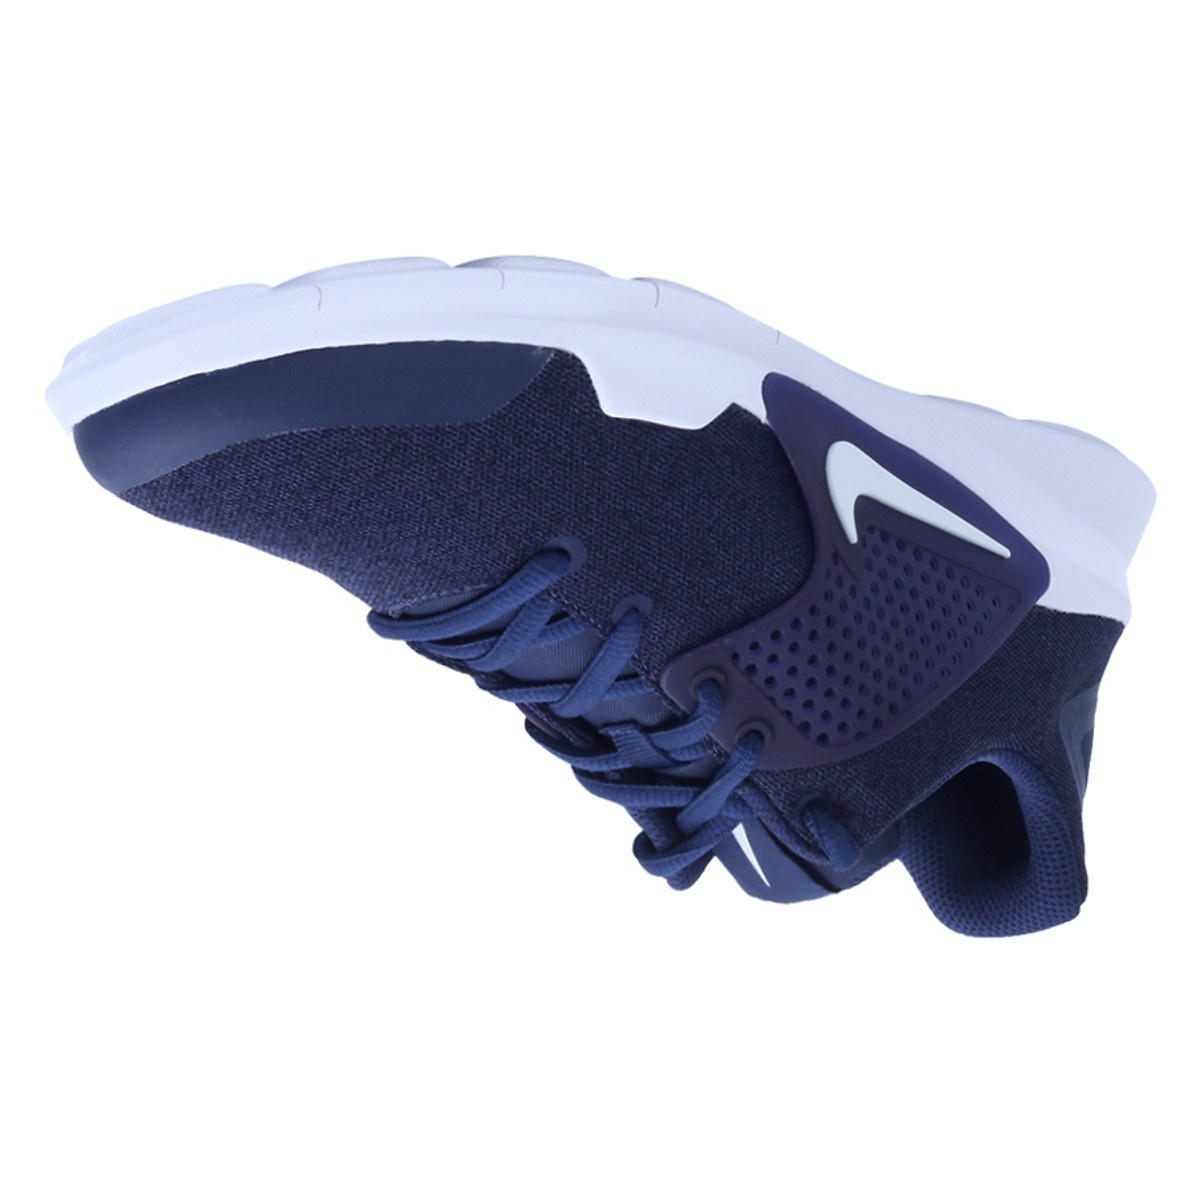Nike: (757, 347, 1068, 599)
